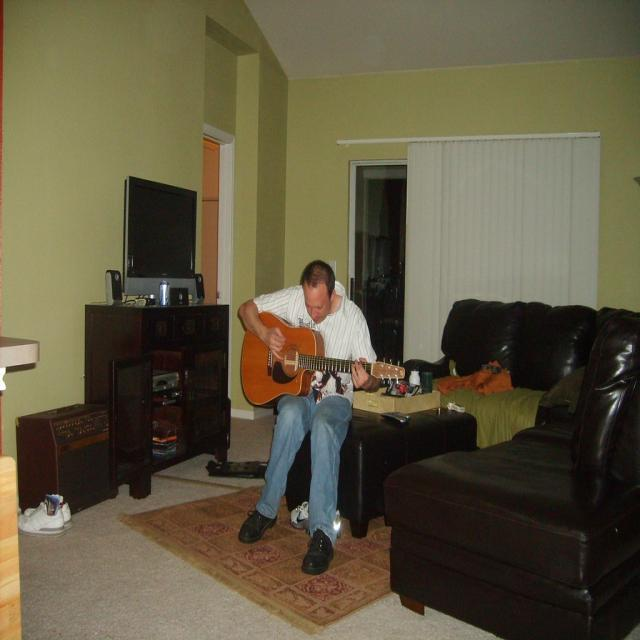guitar: (239, 308, 409, 410)
